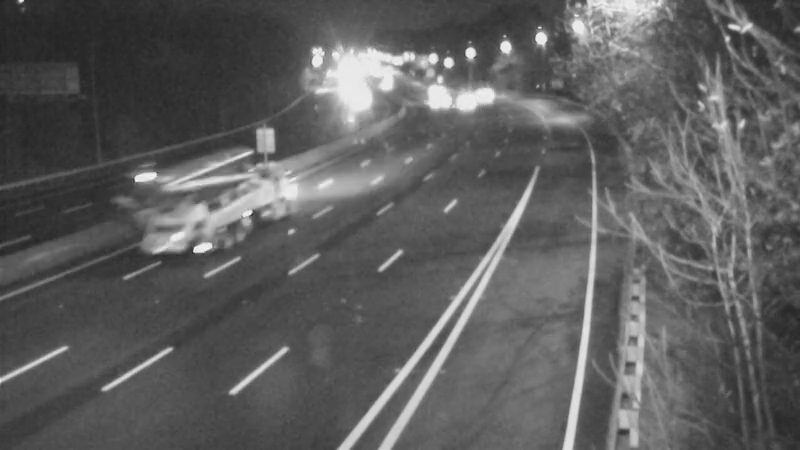vehicle: (138, 186, 218, 266), (436, 70, 486, 120), (411, 75, 461, 125), (463, 63, 513, 113), (402, 62, 452, 112)
